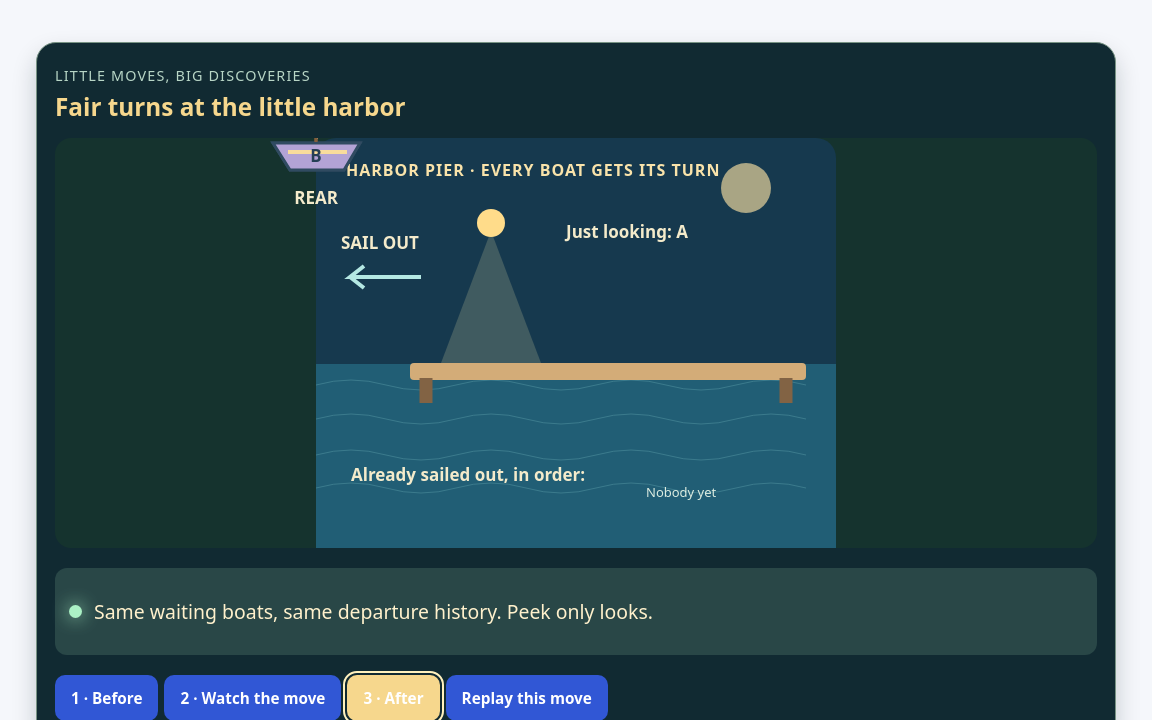
Scenario: child-friendly structure stories › keeps boats and departure history unchanged throughout peek
Click the button "1 · Before" at (107, 698), box x1=55 y1=674 x2=158 y2=719
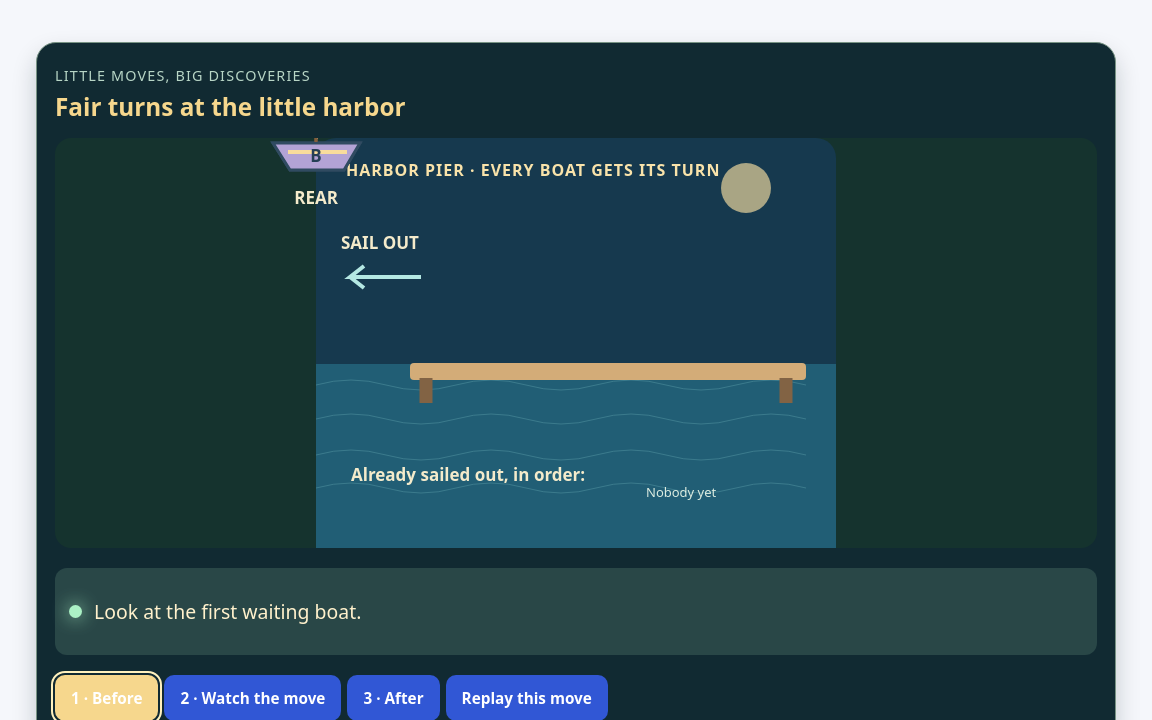
Click the button "2 · Watch the move" at (253, 698), box x1=164 y1=674 x2=342 y2=719
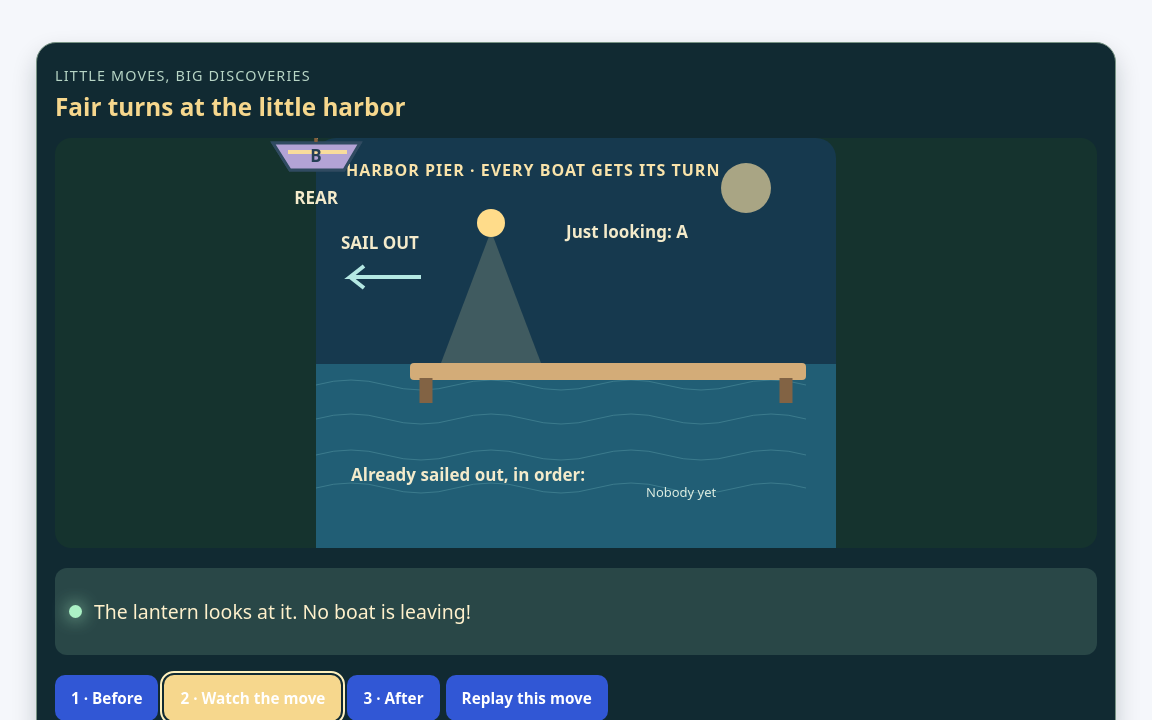
Click the button "3 · After" at (394, 698), box x1=347 y1=674 x2=440 y2=719
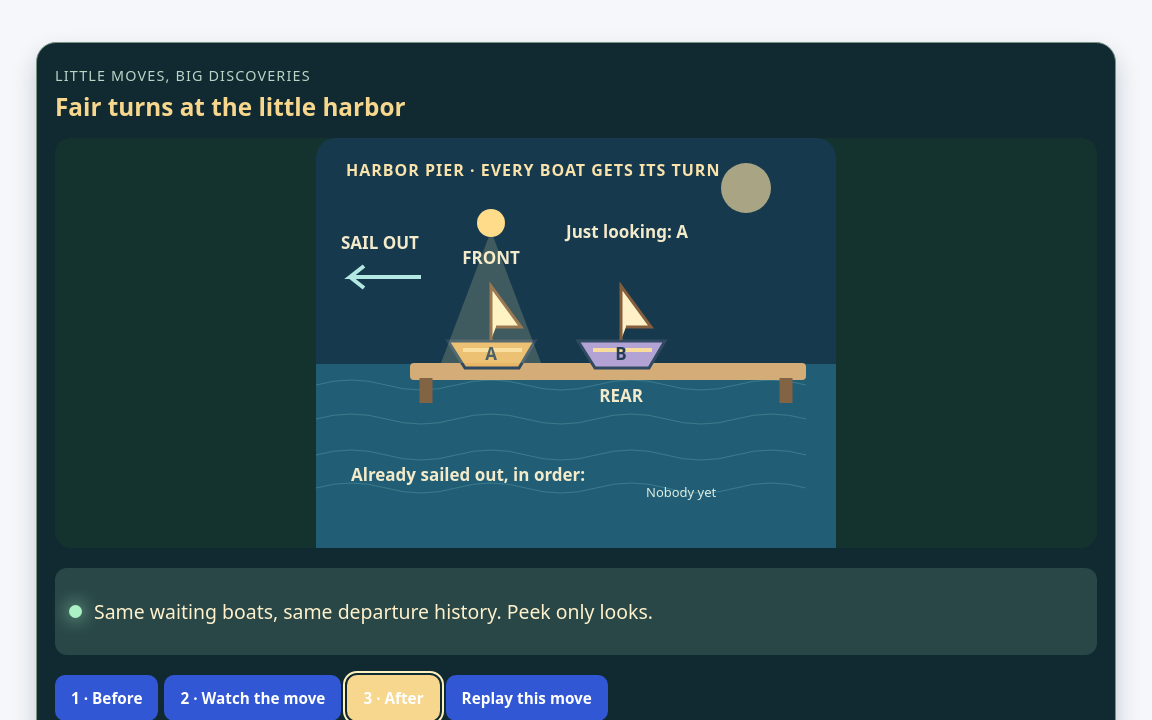
Expected: the text "Same waiting boats, same departure history. Peek only looks." is shown, x1=55 y1=568 x2=1097 y2=655
